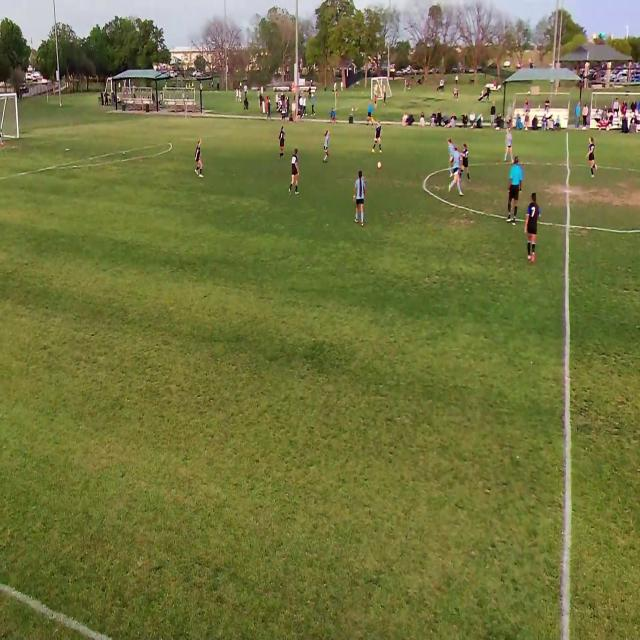ball: (378, 162, 382, 170)
team1: (525, 194, 540, 266), (462, 138, 472, 188), (291, 148, 301, 194), (587, 136, 597, 178), (372, 118, 383, 153), (278, 125, 286, 160), (196, 140, 203, 178)
team2: (356, 170, 369, 228), (452, 146, 462, 195), (506, 126, 515, 162), (324, 128, 332, 162), (447, 139, 453, 176)
